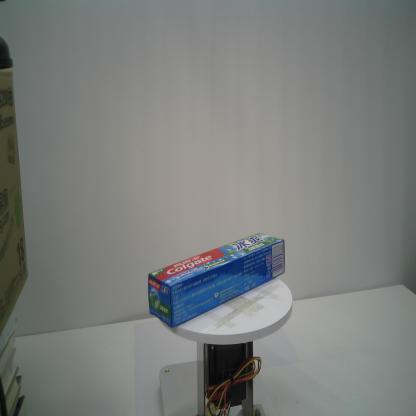Personal Hygiene: (146, 231, 287, 330)
